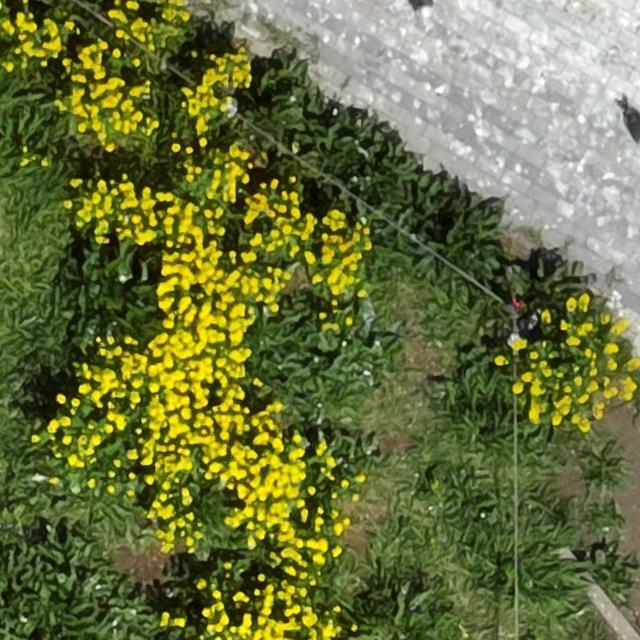umineko: (412, 4, 438, 20)
